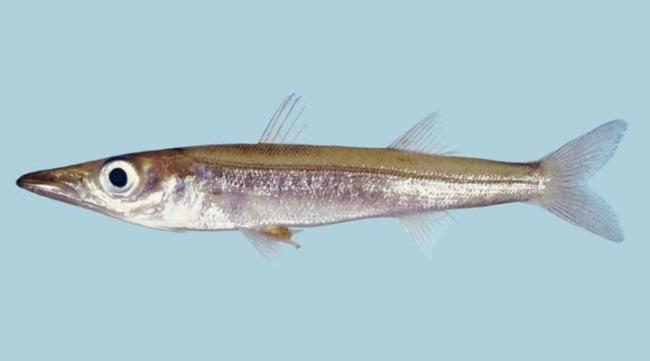fish: (16, 90, 629, 265)
